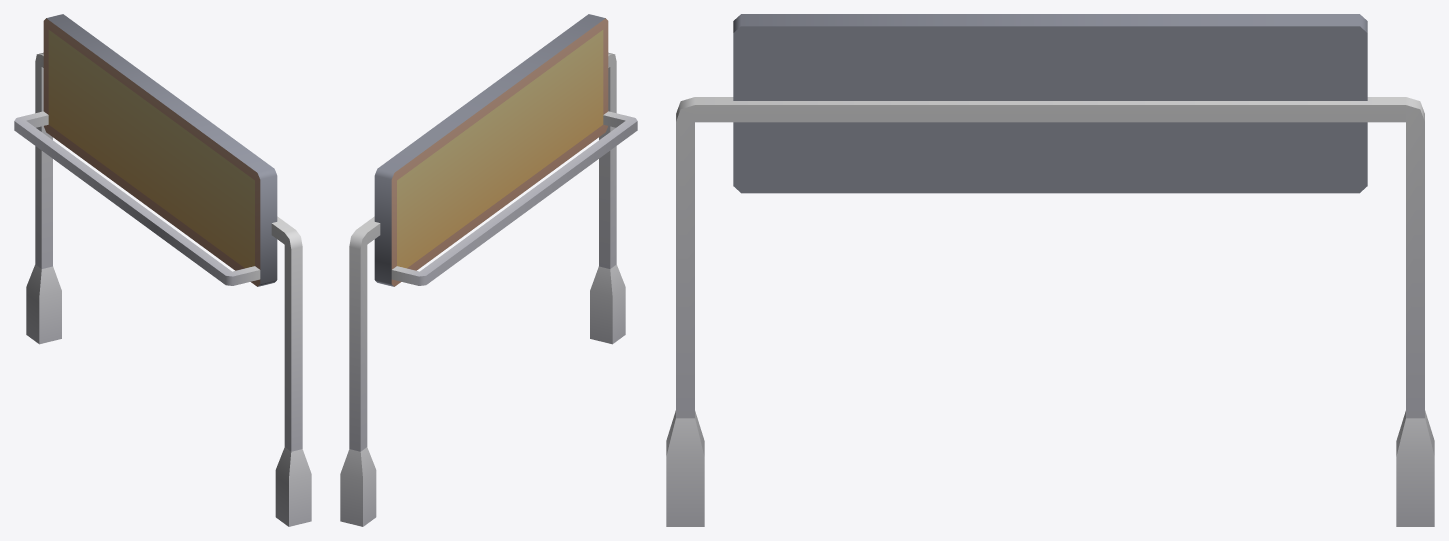
File: sign-highway-wide.glb
3 renders of one model, left to right at view 1: azimuth 30°, elevation 25°; view 2: azimuth 150°, elevation 25°; view 3: azimuth 270°, elevation 25°, orthographic. The views are drawn at different scales.
Parts seen in each view (by area): view 1: sign-highway-wide; view 2: sign-highway-wide; view 3: sign-highway-wide.
Boxes of the visible parts, x1=… form: sign-highway-wide: x1=14, y1=14, x2=311, y2=526; sign-highway-wide: x1=340, y1=14, x2=637, y2=526; sign-highway-wide: x1=666, y1=14, x2=1434, y2=526.
Bounding box in the file's own units: 0.1324 × 0.7074 × 1.
